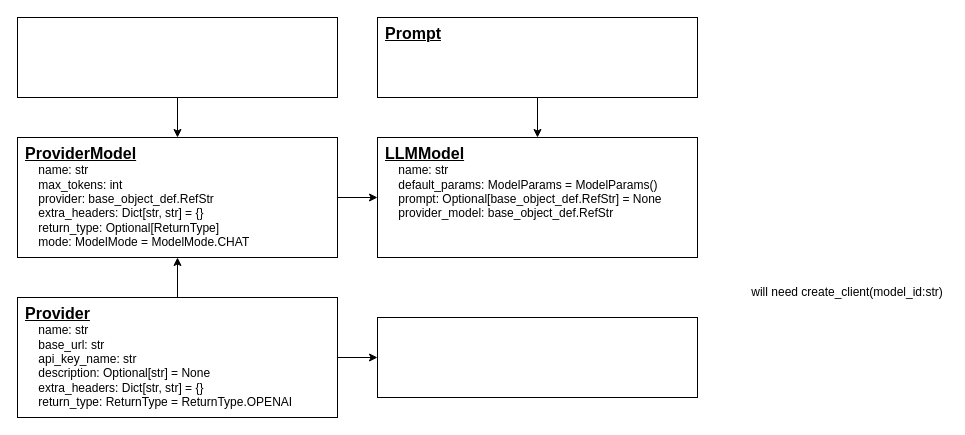
Some shapes in this 965 by 435 pixel diagram are drawn without their labels. Here are the shapes that lost their labels. From the top down, the box of each, then its label:
(16, 16, 338, 98): Cost table Store cost as <provider>/<provider-model>
(376, 316, 698, 398): LLMScorer client: LLM_clients | base_object_def.RefStr model_id: string
